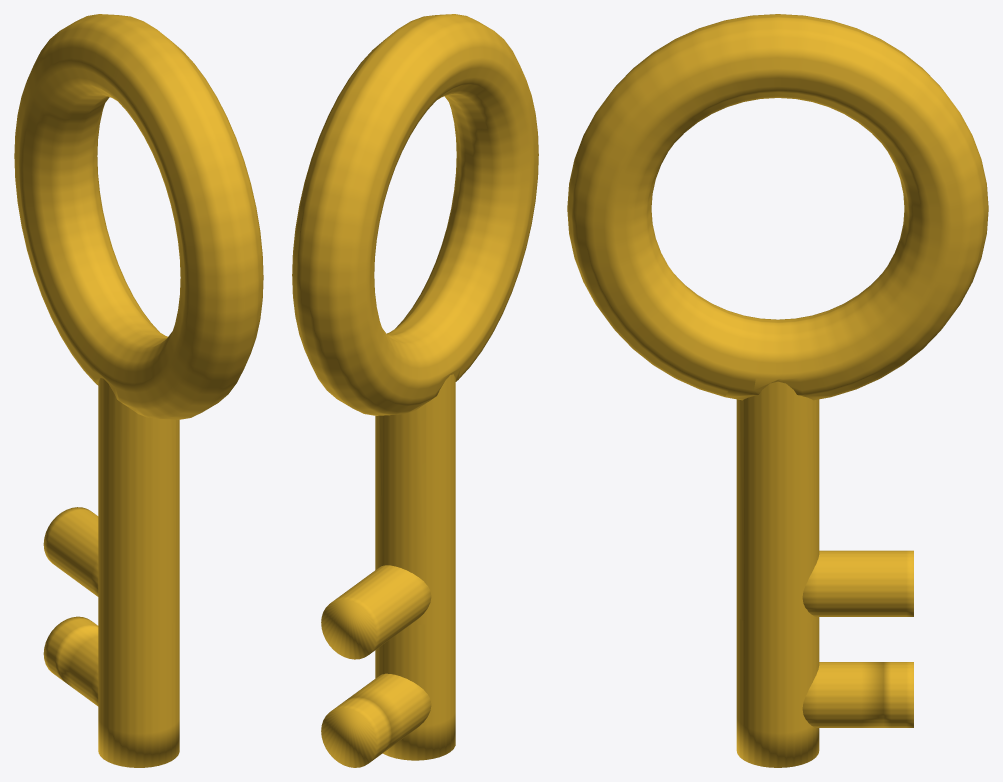
The model's file is keys.fbx.
3 views of the same model, side by side, from view 1: azimuth 30°, elevation 25°; view 2: azimuth 150°, elevation 25°; view 3: azimuth 270°, elevation 25° (orthographic). The views are drawn at different scales.
Parts seen in each view (by area): view 1: key; view 2: key; view 3: key.
Part boxes in pixels (left/top/right/bottom): key: left=14, top=14, right=263, bottom=767; key: left=292, top=14, right=538, bottom=767; key: left=567, top=14, right=988, bottom=767.
Size of the model in its own units: 27.5 by 264 by 138.
